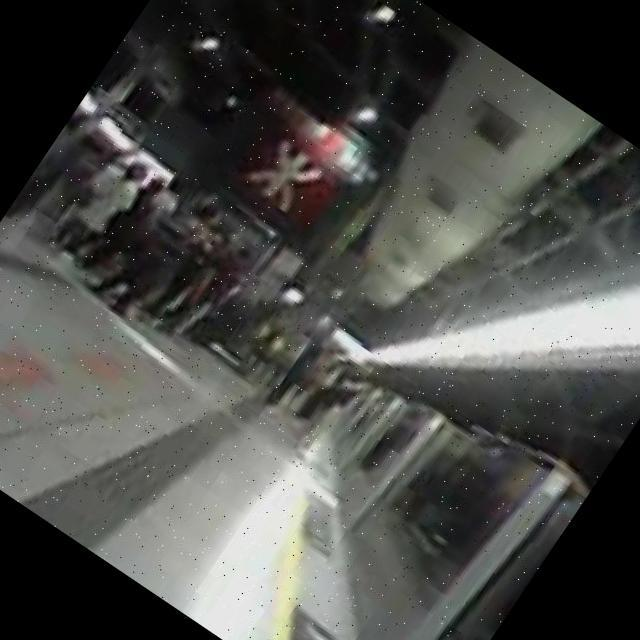person: (41, 143, 156, 274), (138, 214, 232, 332)
